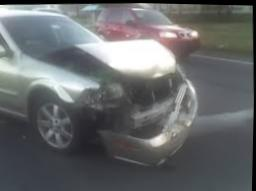Bonnet: (39, 37, 181, 110)
Bumper: (72, 82, 204, 166)
Fender: (23, 72, 78, 104)
Light: (85, 84, 127, 106)
